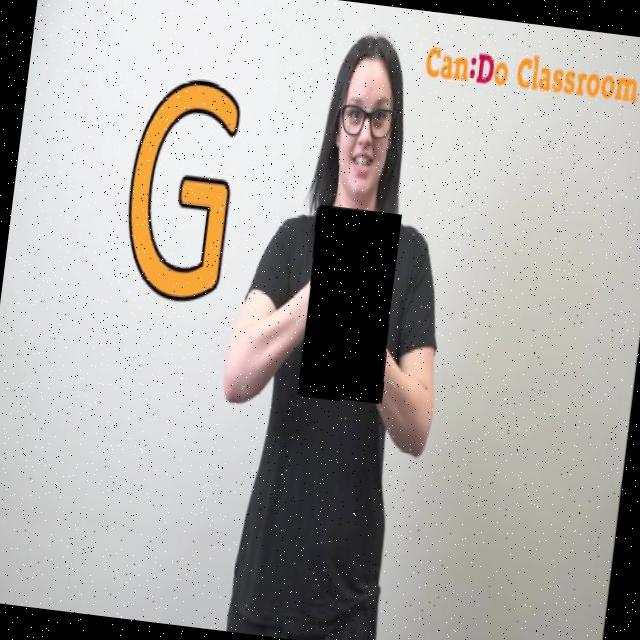G: (296, 206, 404, 407)
